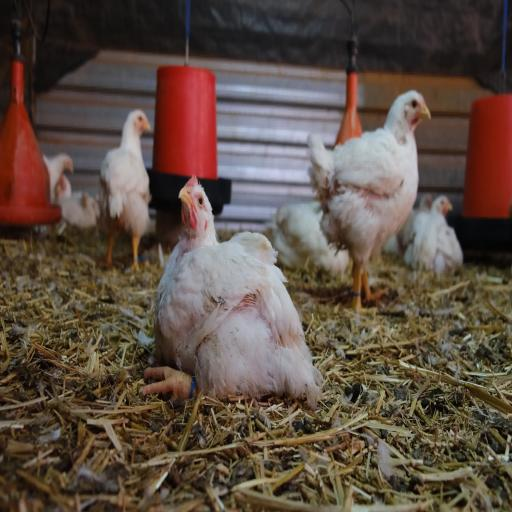healthy: (162, 147, 217, 243), (394, 76, 436, 142)
